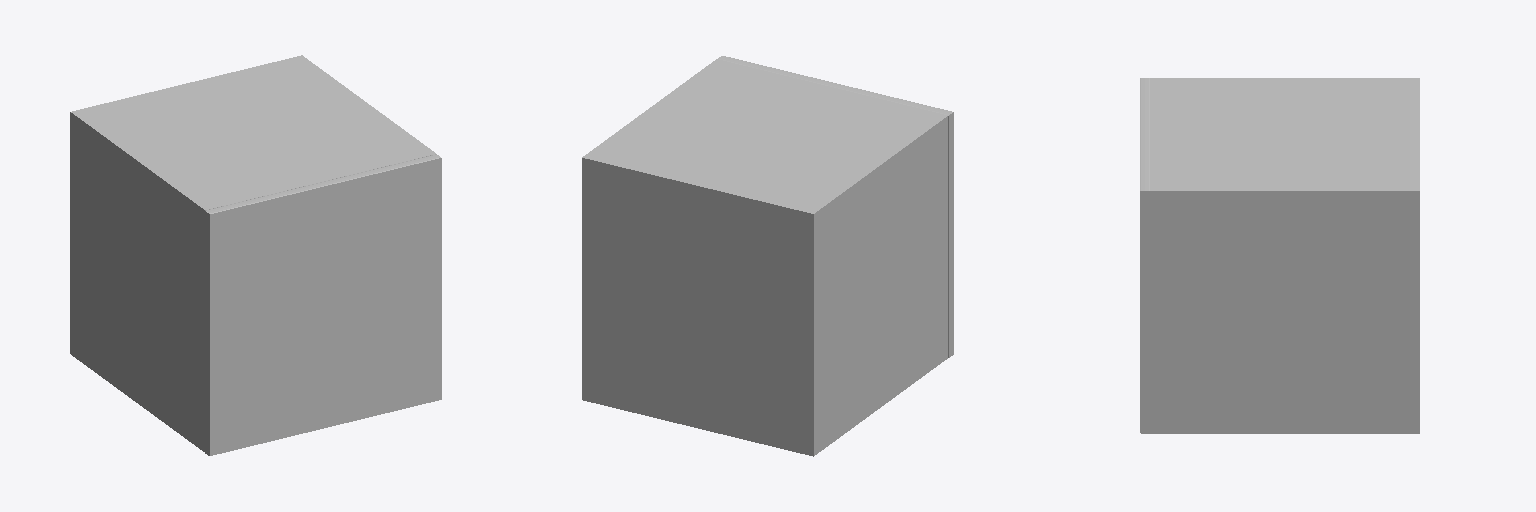
File: wormRoomX3.obj
3 renders of one model, left to right at view 1: azimuth 30°, elevation 25°; view 2: azimuth 150°, elevation 25°; view 3: azimuth 270°, elevation 25°, orthographic.
Visible parts, largest first — view 1: Cube, Cube.001_Cube.003; view 2: Cube, Cube.001_Cube.003; view 3: Cube, Cube.001_Cube.003.
Boxes of the visible parts, x1=… form: Cube: x1=70, y1=55, x2=435, y2=451; Cube.001_Cube.003: x1=205, y1=154, x2=441, y2=455; Cube: x1=582, y1=59, x2=947, y2=456; Cube.001_Cube.003: x1=718, y1=56, x2=953, y2=357; Cube: x1=1150, y1=78, x2=1419, y2=433; Cube.001_Cube.003: x1=1140, y1=78, x2=1149, y2=433.
Bounding box in the file's own units: 3.82 × 3.81 × 3.98.